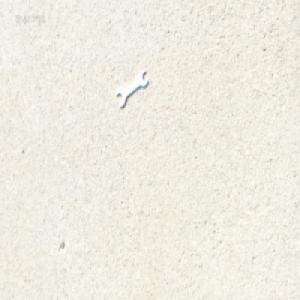Wrench: (116, 68, 149, 107)
